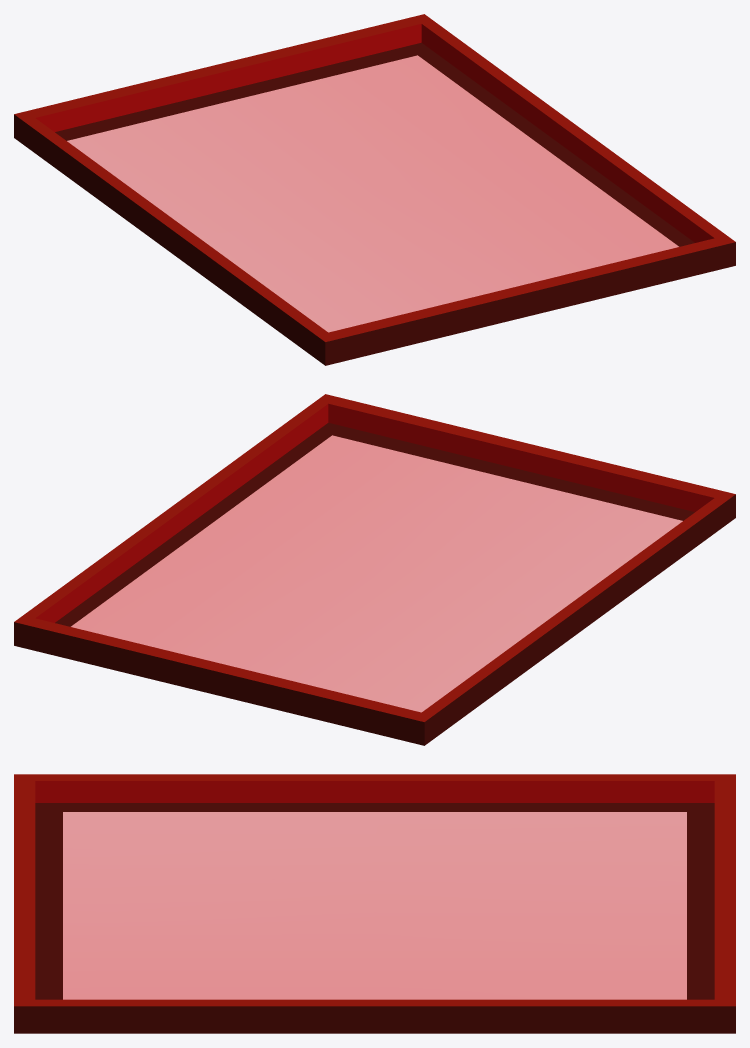
Rendered from Main Tray.fbx.
3 views of the same model, one above another, from view 1: azimuth 30°, elevation 25°; view 2: azimuth 150°, elevation 25°; view 3: azimuth 270°, elevation 25° (orthographic). The views are drawn at different scales.
Visible parts, largest first — view 1: Plane, Plane.001, Plane.002, Plane.003, Plane.004; view 2: Plane, Plane.001, Plane.002, Plane.003, Plane.004; view 3: Plane, Plane.002, Plane.001, Plane.004, Plane.003.
Part boxes in pixels (bbox=[...]): Plane: bbox=[67, 55, 678, 332]; Plane.001: bbox=[14, 114, 735, 365]; Plane.002: bbox=[14, 14, 735, 341]; Plane.003: bbox=[35, 23, 714, 242]; Plane.004: bbox=[55, 42, 694, 246]; Plane: bbox=[71, 435, 682, 712]; Plane.001: bbox=[14, 494, 735, 745]; Plane.002: bbox=[14, 394, 735, 721]; Plane.003: bbox=[35, 403, 714, 622]; Plane.004: bbox=[55, 422, 694, 626]; Plane: bbox=[63, 812, 686, 999]; Plane.002: bbox=[14, 774, 735, 1006]; Plane.001: bbox=[14, 1006, 735, 1033]; Plane.004: bbox=[35, 803, 714, 999]; Plane.003: bbox=[35, 781, 714, 802].
Bounding box in the file's own units: 1280 × 70.61 × 1682.
Materials: 1 (1 with a texture image).
